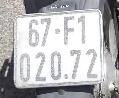0: (48, 49, 63, 83), (17, 52, 30, 86)
1: (78, 14, 89, 47)
2: (33, 50, 47, 82), (86, 48, 99, 81)
6: (27, 15, 40, 47)
7: (40, 15, 53, 49), (68, 48, 82, 78)
F: (61, 14, 76, 48)
